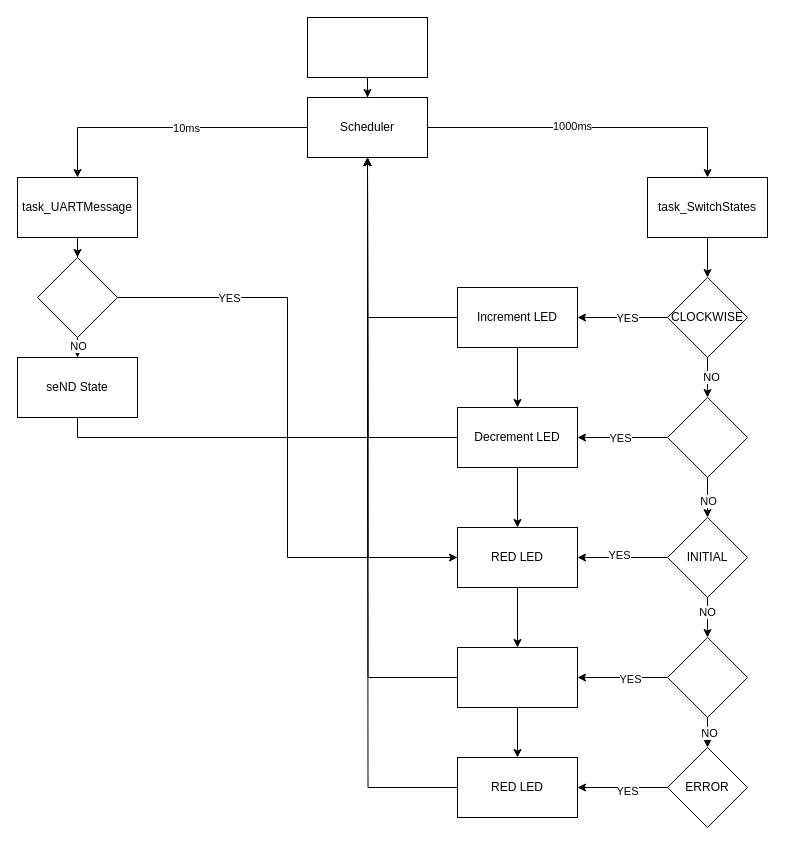
The diagram is 785 pixels wide and 845 high, and some of its shapes have lost their labels. Each missing label, with the box of its shape:
ANTI-CLOCKWISE: (666, 396, 748, 478)
Check ERROR: (36, 256, 118, 338)
IDLE: (666, 636, 748, 718)
init: (306, 16, 428, 78)
WHITE LED: (456, 646, 578, 708)
